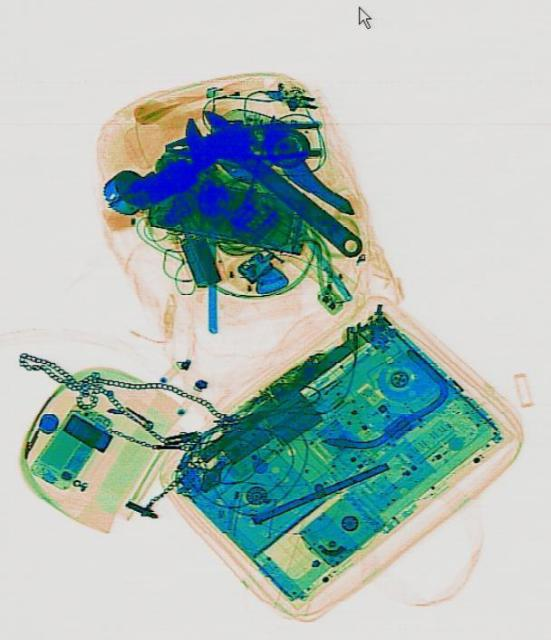Pliers: (162, 120, 321, 163)
Wrench: (172, 98, 369, 274)
